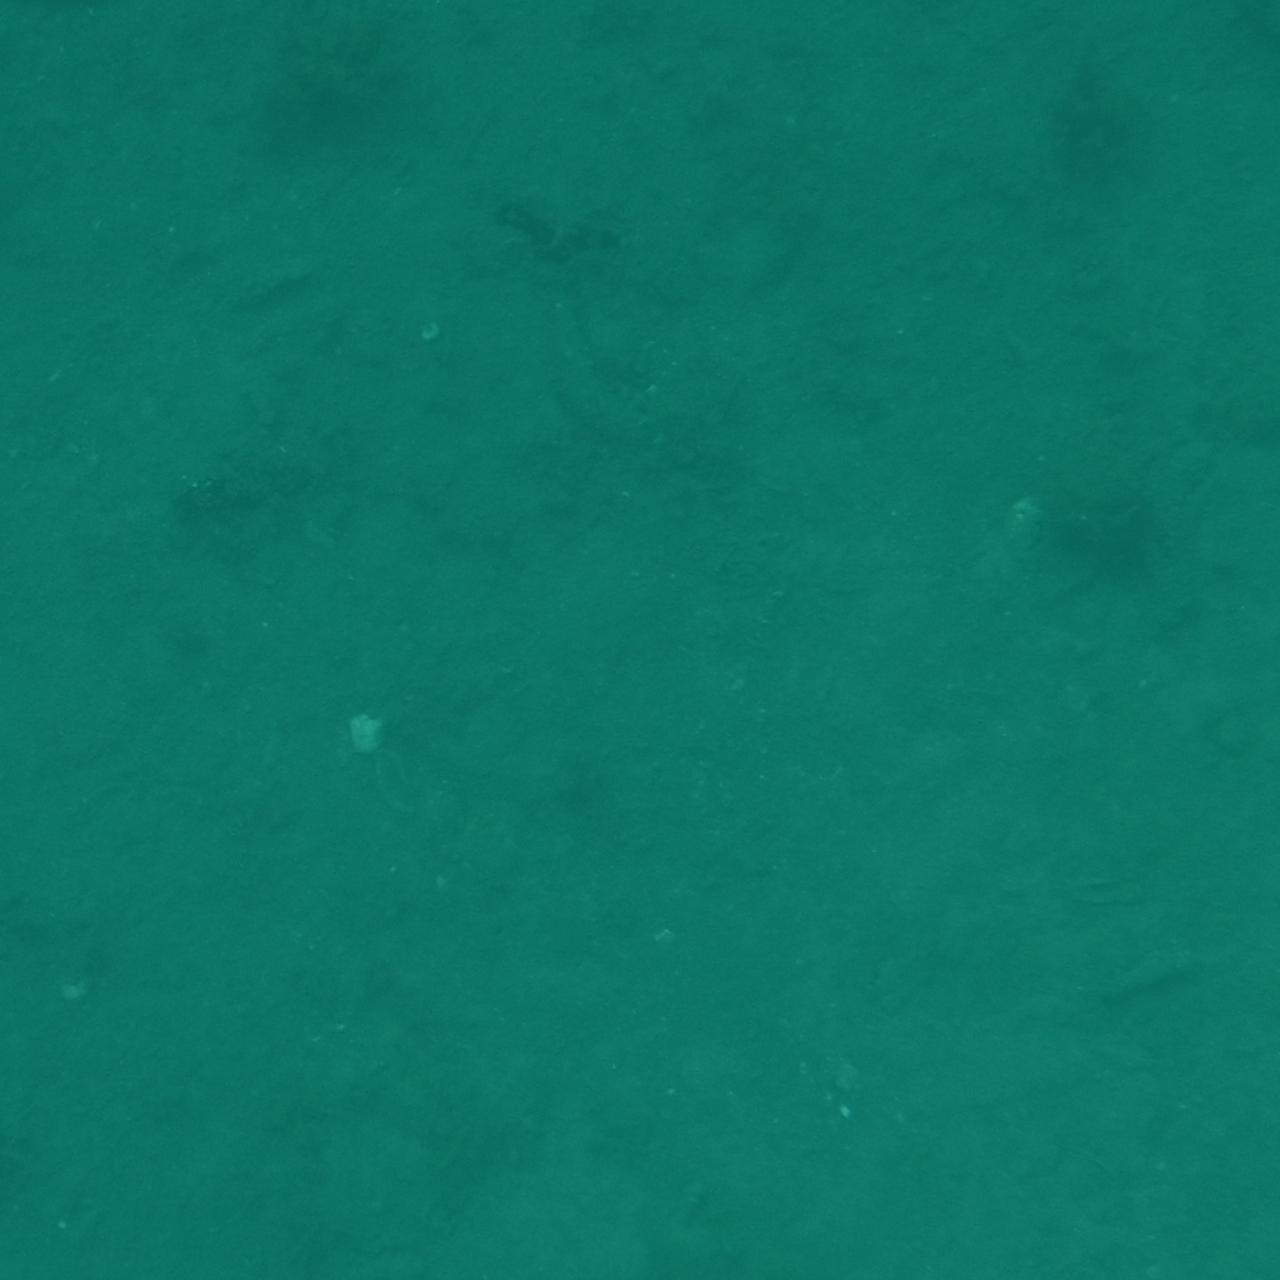Holothuria tubulosa: (504, 246, 712, 484), (1110, 948, 1280, 1108), (558, 1164, 751, 1280), (0, 837, 86, 1088), (0, 0, 198, 86), (962, 1211, 1207, 1280), (567, 1182, 733, 1280), (0, 1141, 109, 1280), (0, 0, 156, 95), (1089, 1203, 1280, 1280), (0, 0, 98, 136), (506, 0, 690, 68), (0, 120, 63, 314), (1198, 293, 1280, 443), (0, 428, 61, 628), (1169, 1173, 1280, 1280), (0, 0, 89, 127), (0, 1189, 123, 1280), (0, 0, 102, 105), (0, 509, 75, 647), (152, 1235, 374, 1280), (0, 1169, 80, 1280), (1177, 0, 1280, 82), (1226, 1185, 1280, 1280)
Rifiuto: (0, 1179, 151, 1280)
